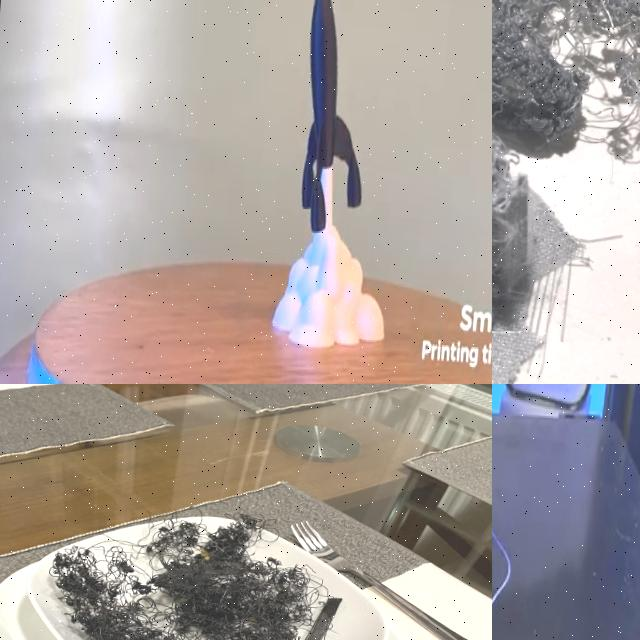spaghetti: (26, 505, 380, 640), (492, 0, 640, 157)
